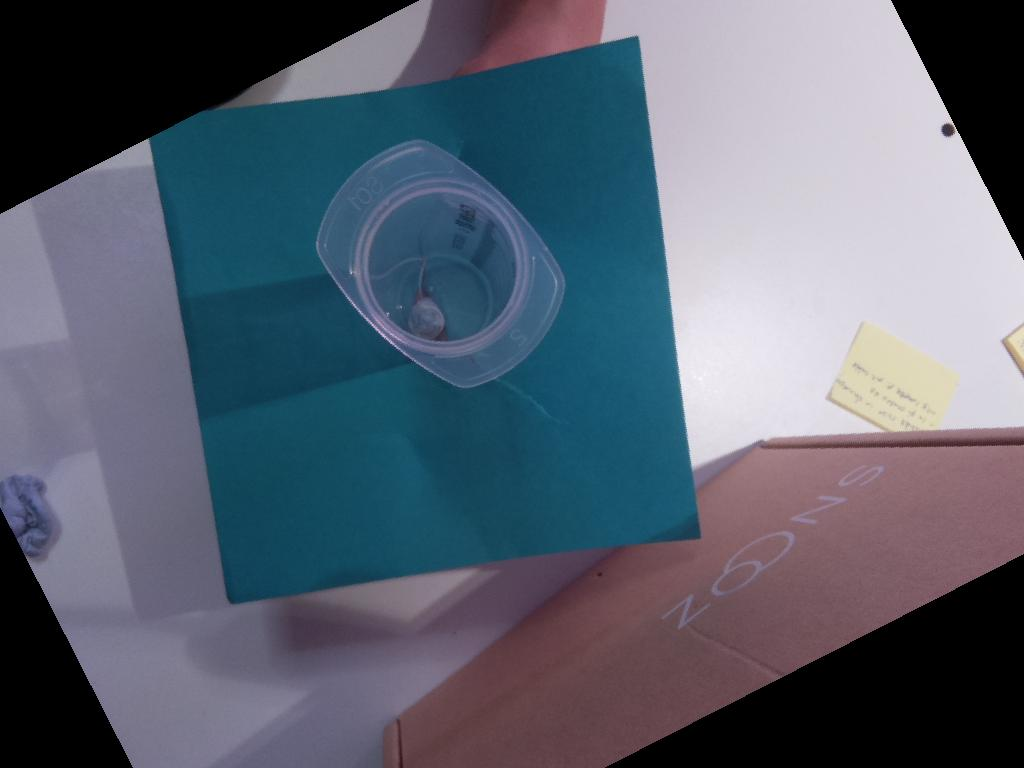clean: (314, 137, 566, 389)
